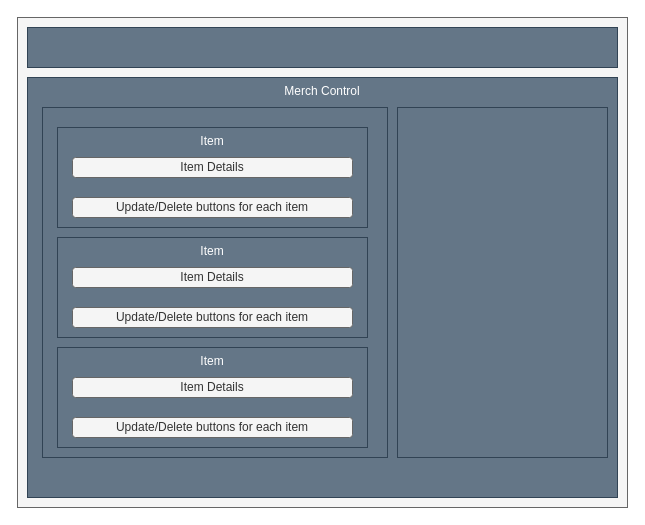
This 645x525 diagram has some shape labels left out. Each missing label, with the centre of its shape:
Cart: the point at 502,282
Header: the point at 322,47
